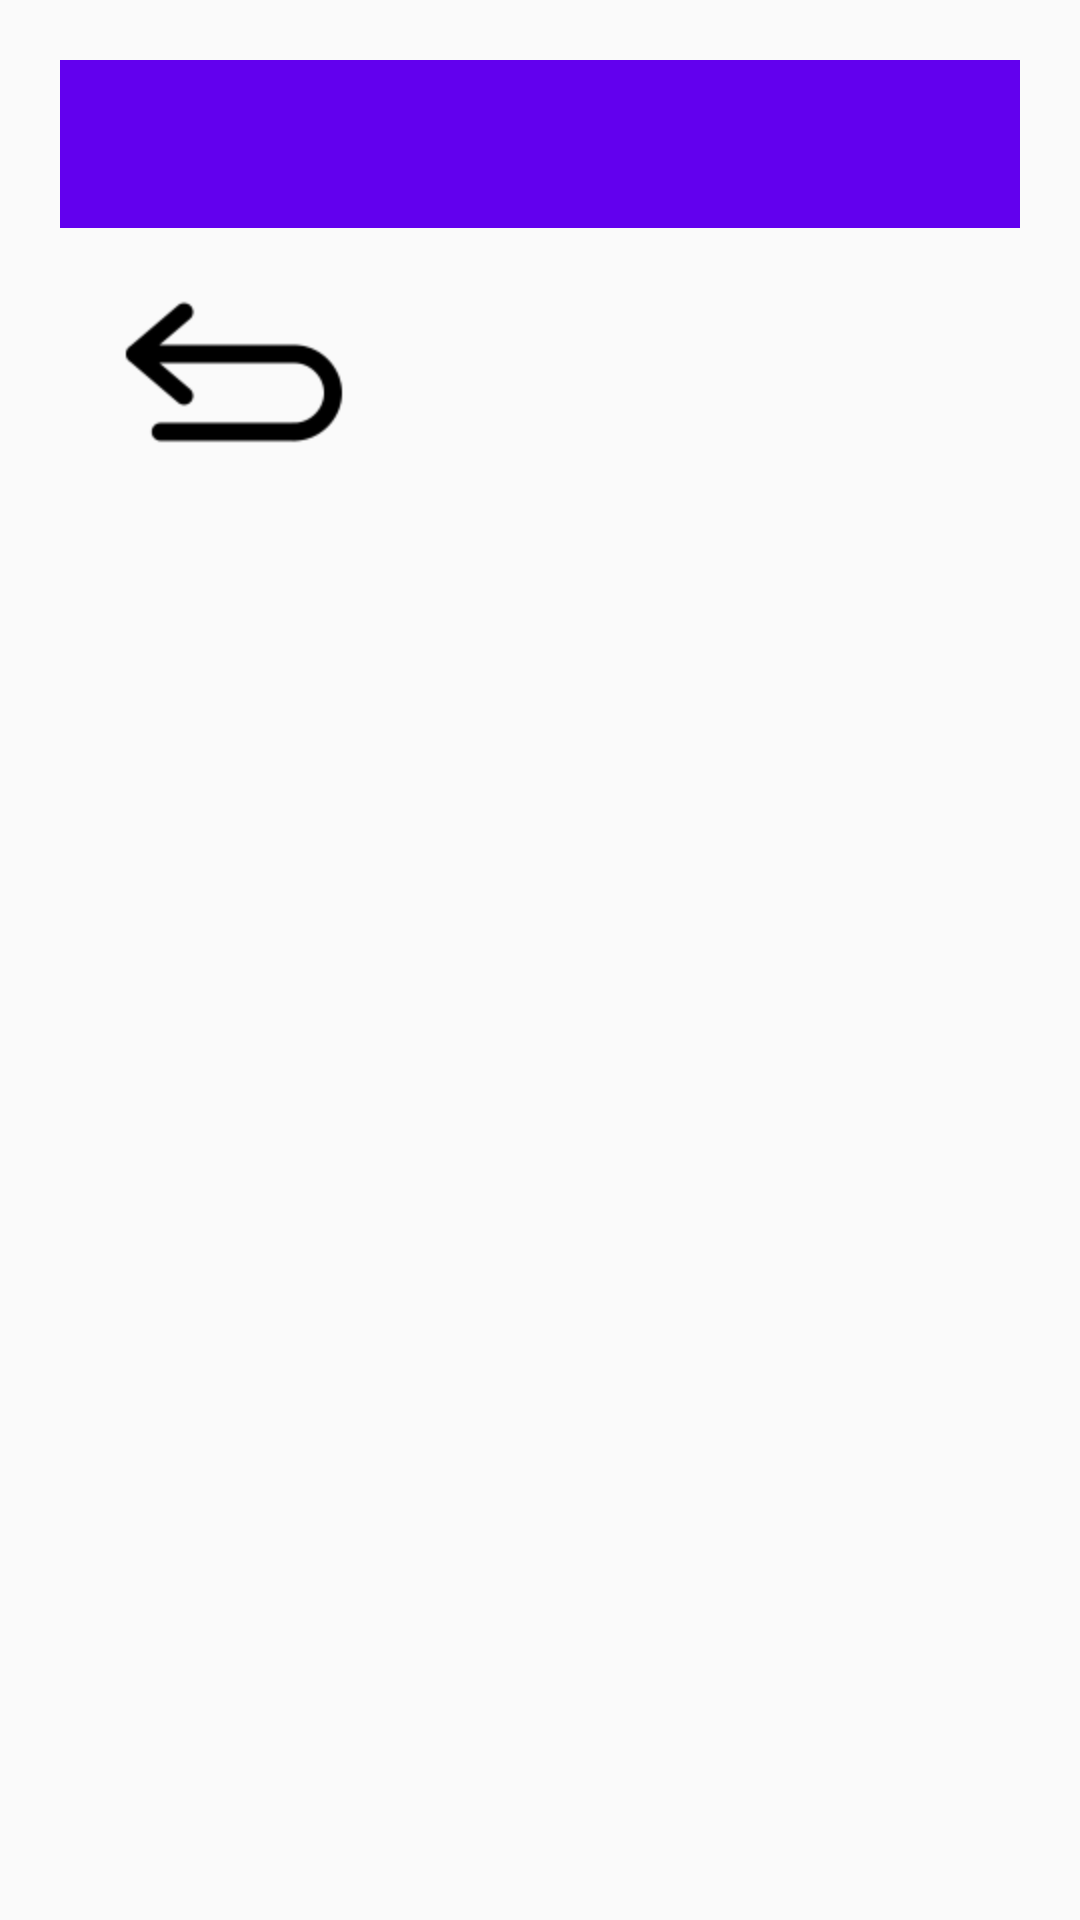

Point at icon controls on the screen. Image size 1080px x 1920px, points as [x,y].
Back Button: [234,372]
